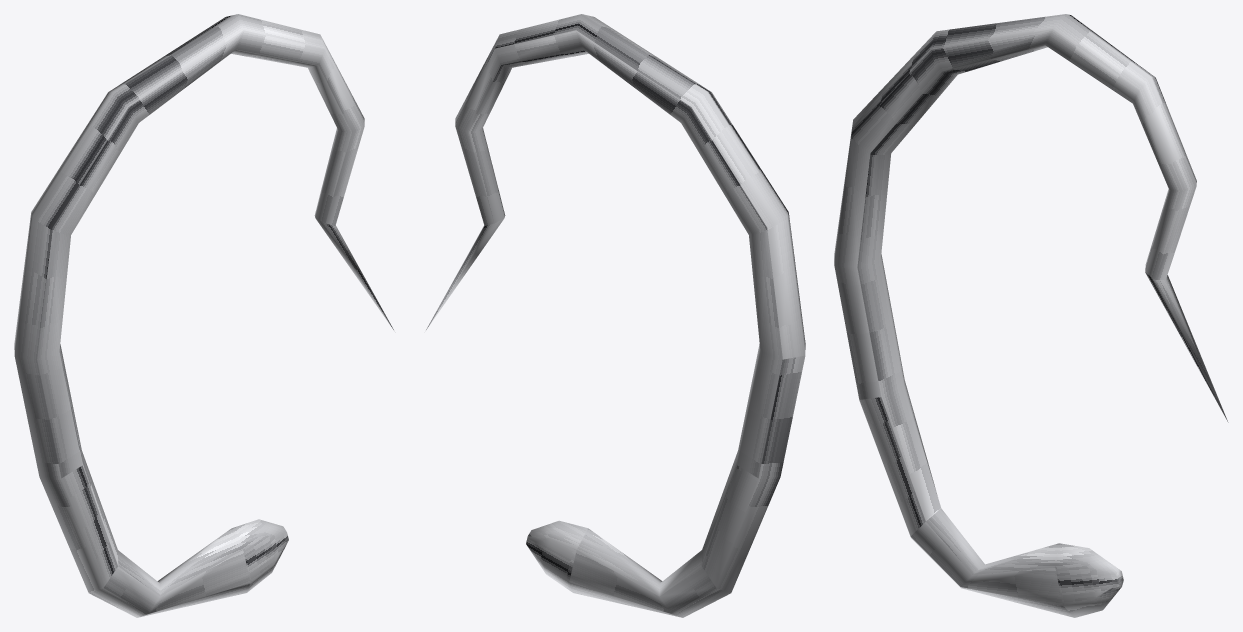
File: snake_000038.obj
3 views of the same model, side by side, from view 1: azimuth 30°, elevation 25°; view 2: azimuth 150°, elevation 25°; view 3: azimuth 330°, elevation 25° (orthographic). The views are drawn at different scales.
Parts seen in each view (by area): view 1: Cylinder; view 2: Cylinder; view 3: Cylinder.
Boxes of the visible parts, x1,y1,x2,y2 form: Cylinder: (14, 14, 393, 617); Cylinder: (426, 14, 805, 617); Cylinder: (834, 14, 1228, 617).
Bounding box in the file's own units: 3.57 × 5.2 × 0.3671.
